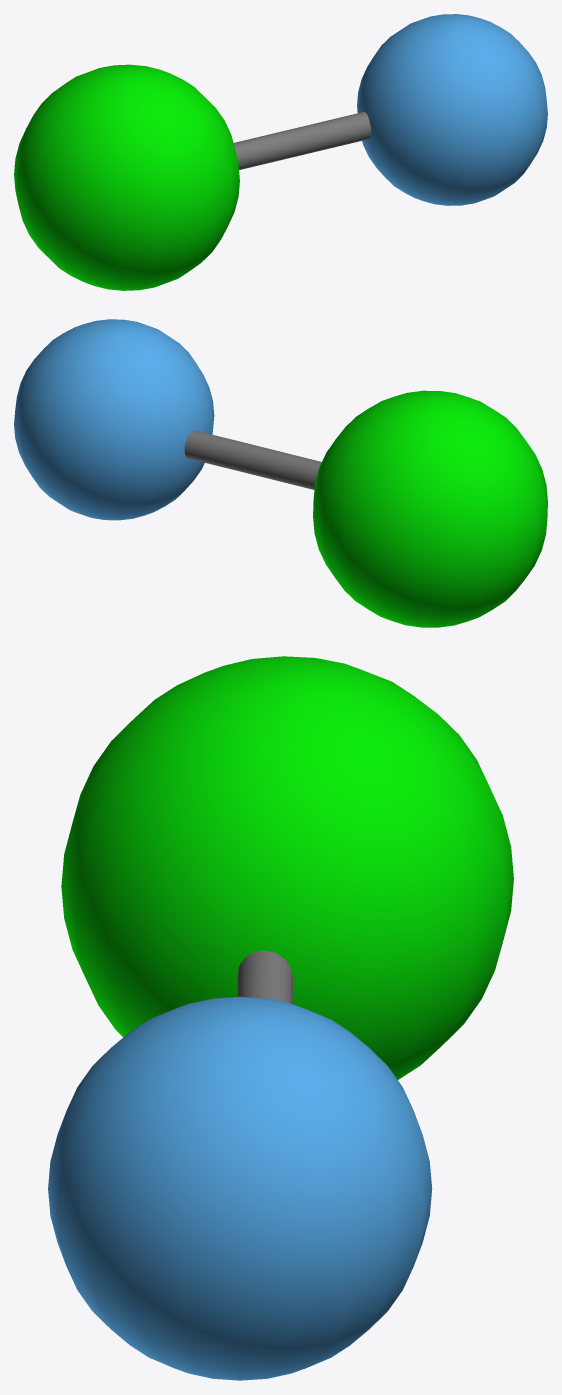
The model's file is NaCl.fbx.
The picture shows the model from 3 angles, top to bottom: view 1: azimuth 30°, elevation 25°; view 2: azimuth 150°, elevation 25°; view 3: azimuth 270°, elevation 25°; orthographic projection. The views are drawn at different scales.
Visible parts, largest first — view 1: NaCl; view 2: NaCl; view 3: NaCl.
Boxes of the visible parts, bbox=[...] form: NaCl: bbox=[14, 14, 547, 290]; NaCl: bbox=[14, 319, 547, 627]; NaCl: bbox=[48, 656, 513, 1380].
Size of the model in its own units: 6.64 by 2.63 by 2.71.
